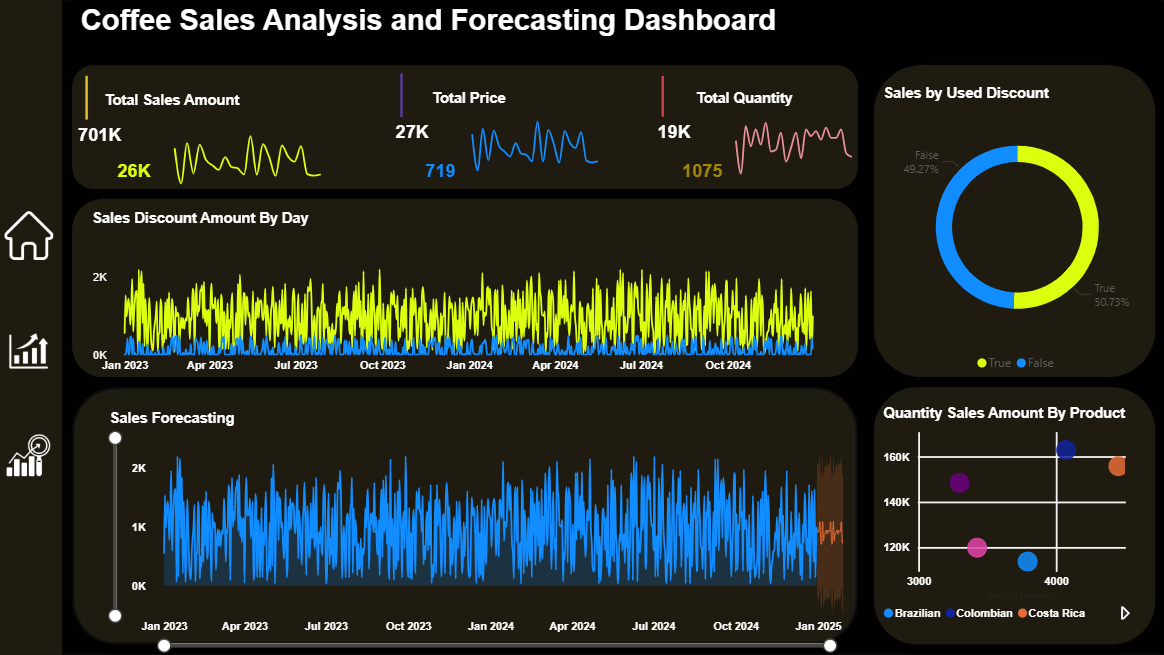

Layout of this report page (visuals, bound fields, positions):
{"tool":"powerbi","page":{"name":"Page 1","canvas":[1280,720],"ordinal":0},"visuals":[{"type":"card","fields":{"Values":["CoffeeSales_dataset.Total_order"]},"box":[15.1,108.4,189.4,82.3],"z":0},{"type":"card","fields":{"Values":["CoffeeSales_dataset.Total_Price"]},"box":[376,94.7,153.7,104.3],"z":1000},{"type":"card","fields":{"Values":["CoffeeSales_dataset.Total quantity"]},"box":[702.6,112.5,75.5,68.6],"z":2000},{"type":"lineChart","fields":{"Y":["Sum(CoffeeSales_dataset.Sales Amount)"],"Category":["CoffeeSales_dataset.Date.Variation.Date Hierarchy.Year","CoffeeSales_dataset.Date.Variation.Date Hierarchy.Quarter","CoffeeSales_dataset.Date.Variation.Date Hierarchy.Month"]},"box":[177,122.1,189.4,98.8],"z":3000},{"type":"lineChart","fields":{"Category":["CoffeeSales_dataset.Date.Variation.Date Hierarchy.Year","CoffeeSales_dataset.Date.Variation.Date Hierarchy.Quarter","CoffeeSales_dataset.Date.Variation.Date Hierarchy.Month"],"Y":["CoffeeSales_dataset.Total_Price"]},"box":[793.1,112.5,156.4,94.7],"z":4000},{"type":"lineChart","fields":{"Category":["CoffeeSales_dataset.Date.Variation.Date Hierarchy.Year","CoffeeSales_dataset.Date.Variation.Date Hierarchy.Quarter","CoffeeSales_dataset.Date.Variation.Date Hierarchy.Month"],"Y":["CoffeeSales_dataset.Total_order"]},"box":[503.6,105.7,167.4,101.5],"z":5000},{"type":"textbox","box":[83.7,0,688.9,64.5],"z":6000},{"type":"image","box":[63.1,79.6,64.5,57.6],"z":7000},{"type":"image","box":[366.4,76.8,149.6,57.6],"z":8000},{"type":"image","box":[682,79.6,90.6,54.9],"z":9000},{"type":"card","fields":{"Values":["CoffeeSales_dataset.Last Month Sales"]},"box":[702.6,163.3,137.2,53.5],"z":10000},{"type":"card","fields":{"Values":["CoffeeSales_dataset.Last Month Sales"]},"box":[96.1,146.8,102.9,85.1],"z":11000},{"type":"card","fields":{"Values":["CoffeeSales_dataset.Last Month Quantity"]},"box":[425.4,160.5,116.6,59],"z":12000},{"type":"textbox","box":[109.8,97.4,256.6,37],"z":13000},{"type":"lineChart","title":"Sales Discount Amount By Day","fields":{"Y":["Sum(CoffeeSales_dataset.Sales Amount)","Sum(CoffeeSales_dataset.Discount_Amount)"],"Category":["CoffeeSales_dataset.Date.Variation.Date Hierarchy.Year","CoffeeSales_dataset.Date.Variation.Date Hierarchy.Quarter","CoffeeSales_dataset.Date.Variation.Date Hierarchy.Month","CoffeeSales_dataset.Date.Variation.Date Hierarchy.Day"]},"box":[96.1,231.9,827.4,186.6],"z":14000},{"type":"lineChart","title":"Sales Forecasting","fields":{"Y":["Sum(CoffeeSales_dataset.Sales Amount)"],"Category":["CoffeeSales_dataset.Date.Variation.Date Hierarchy.Year","CoffeeSales_dataset.Date.Variation.Date Hierarchy.Quarter","CoffeeSales_dataset.Date.Variation.Date Hierarchy.Month","CoffeeSales_dataset.Date.Variation.Date Hierarchy.Day"]},"box":[115.3,451.5,834.3,269],"z":15000},{"type":"donutChart","title":"Sales by Used Discount","fields":{"Category":["CoffeeSales_dataset.Used_Discount"],"Y":["Sum(CoffeeSales_dataset.Sales Amount)"]},"box":[964.7,94.7,304.6,323.8],"z":16000},{"type":"scatterChart","title":"Quantity Sales Amount By Product","fields":{"X":["Sum(CoffeeSales_dataset.Quantity)"],"Y":["Sum(CoffeeSales_dataset.Sales Amount)"],"Series":["CoffeeSales_dataset.Product"]},"box":[964.7,446,289.5,247],"z":17000},{"type":"textbox","box":[469.3,94.7,153.7,39.8],"z":18000},{"type":"textbox","box":[758.8,94.7,181.1,42.5],"z":19000},{"type":"image","box":[0,220.9,63.1,78.2],"z":20000},{"type":"image","box":[0,359.5,63.1,53.5],"z":21000},{"type":"image","box":[0,472,63.1,57.6],"z":22000}]}

Visuals, with their boxes on the page's 1280x720 design canvas (x1, y1, x2, y2). These are canvas units, not pixel positions in the 1164x655 screenshot, which may show the page scaled, cropped or inside an application window:
card - CoffeeSales_dataset.Total_order: 15, 108, 204, 191
card - CoffeeSales_dataset.Total_Price: 376, 95, 530, 199
card - CoffeeSales_dataset.Total quantity: 703, 112, 778, 181
lineChart - Sum(CoffeeSales_dataset.Sales Amount) x CoffeeSales_dataset.Date.Variation.Date Hierarchy.Year: 177, 122, 366, 221
lineChart - CoffeeSales_dataset.Date.Variation.Date Hierarchy.Year x CoffeeSales_dataset.Date.Variation.Date Hierarchy.Quarter: 793, 112, 950, 207
lineChart - CoffeeSales_dataset.Date.Variation.Date Hierarchy.Year x CoffeeSales_dataset.Date.Variation.Date Hierarchy.Quarter: 504, 106, 671, 207
textbox: 84, 0, 773, 64
image: 63, 80, 128, 137
image: 366, 77, 516, 134
image: 682, 80, 773, 134
card - CoffeeSales_dataset.Last Month Sales: 703, 163, 840, 217
card - CoffeeSales_dataset.Last Month Sales: 96, 147, 199, 232
card - CoffeeSales_dataset.Last Month Quantity: 425, 160, 542, 220
textbox: 110, 97, 366, 134
"Sales Discount Amount By Day" lineChart: 96, 232, 924, 418
"Sales Forecasting" lineChart: 115, 452, 950, 720
"Sales by Used Discount" donutChart: 965, 95, 1269, 418
"Quantity Sales Amount By Product" scatterChart: 965, 446, 1254, 693
textbox: 469, 95, 623, 134
textbox: 759, 95, 940, 137
image: 0, 221, 63, 299
image: 0, 360, 63, 413
image: 0, 472, 63, 530
